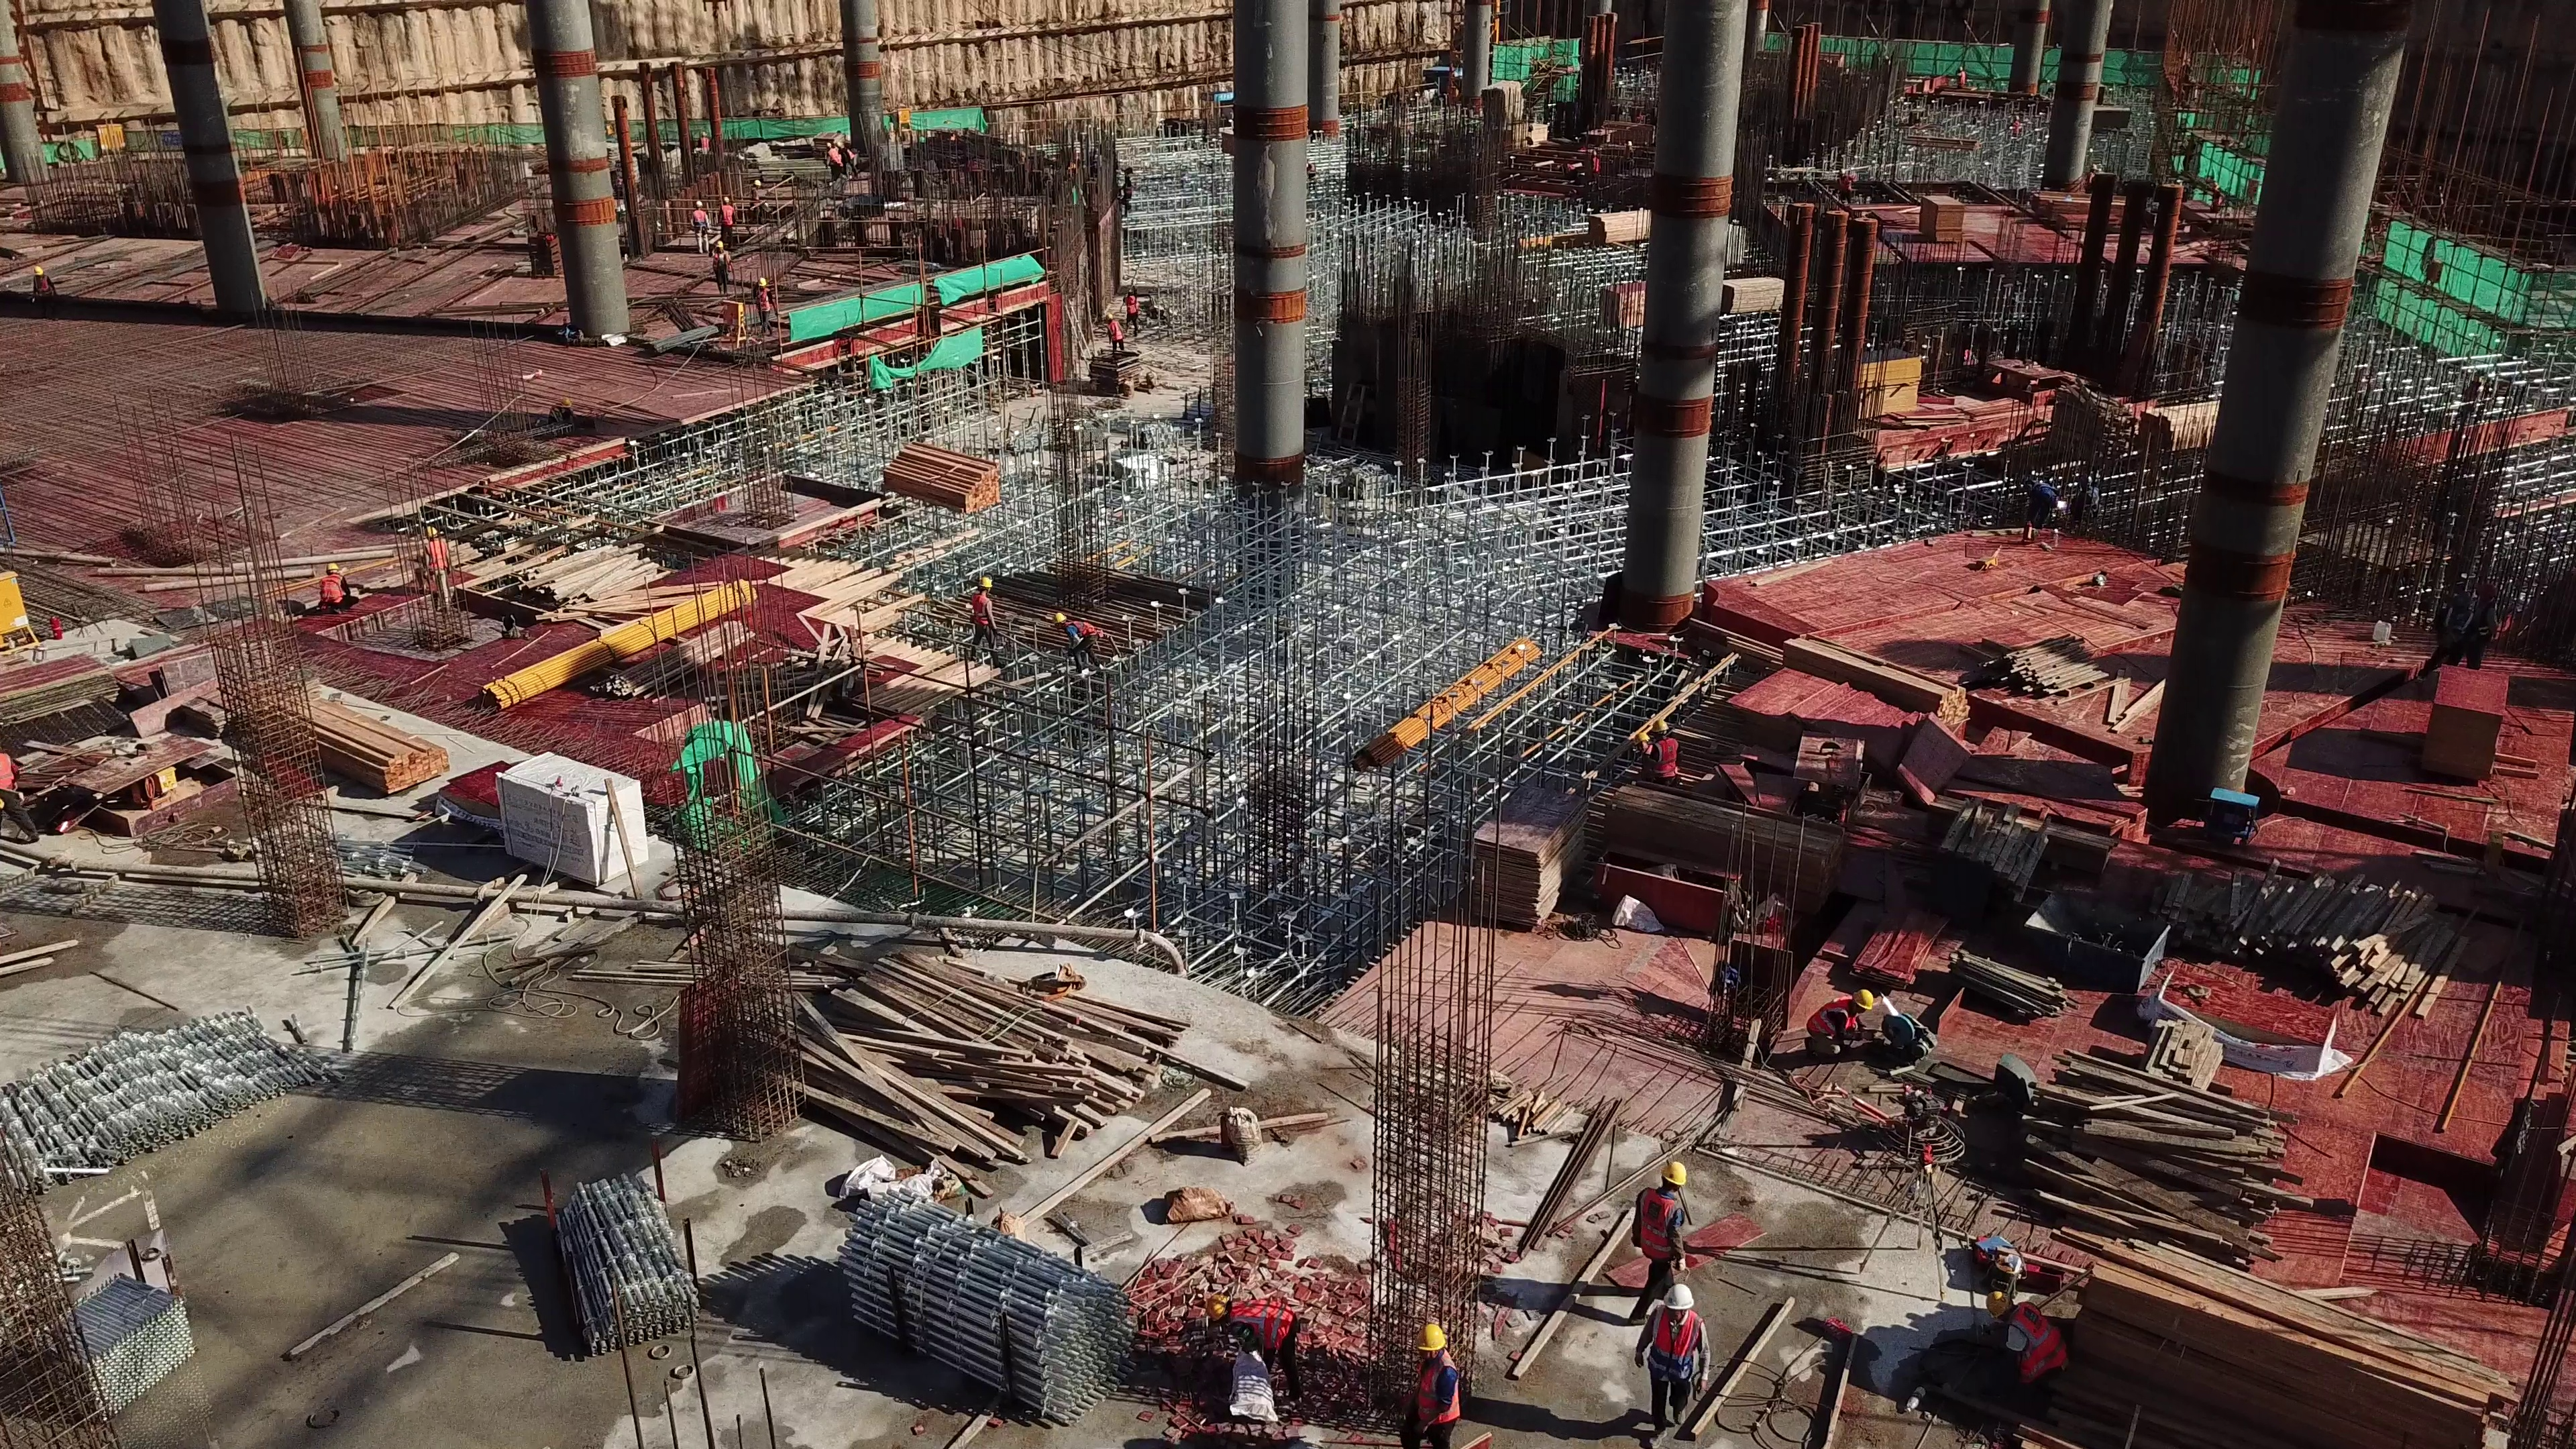board: (1743, 656, 1931, 759), (1470, 794, 1594, 926), (1855, 907, 1958, 1004), (2423, 669, 2504, 786), (1, 659, 126, 724)
cutter: (1872, 1008, 1938, 1063)
ebox: (2205, 782, 2262, 847), (1, 568, 48, 637)
helmet: (1409, 1322, 1451, 1351), (1982, 1288, 2019, 1320), (1663, 1285, 1696, 1316), (1205, 1293, 1232, 1322), (1658, 1156, 1685, 1186), (1850, 989, 1876, 1014), (975, 578, 994, 593), (1631, 731, 1650, 743), (420, 528, 440, 538), (1052, 610, 1067, 626), (323, 562, 343, 574), (1654, 722, 1668, 736)
person: (1637, 1288, 1710, 1433), (1980, 1290, 2071, 1405), (1209, 1287, 1301, 1397), (1631, 1162, 1682, 1319), (1404, 1330, 1465, 1449), (1801, 986, 1865, 1057), (417, 528, 452, 626), (1054, 610, 1104, 676), (969, 577, 1002, 667), (2470, 584, 2496, 674), (2434, 592, 2462, 676), (315, 562, 355, 619), (1654, 720, 1683, 784), (709, 240, 737, 297), (29, 266, 56, 318), (692, 199, 714, 256), (1633, 732, 1658, 780), (756, 280, 777, 334), (1120, 290, 1141, 337), (820, 142, 844, 181), (1103, 313, 1125, 354), (719, 197, 735, 246), (1833, 168, 1858, 204), (2205, 176, 2224, 215), (749, 180, 765, 223), (1955, 65, 1967, 89)
scaffold: (833, 1187, 1128, 1428), (9, 1003, 354, 1180), (547, 1177, 693, 1360), (38, 1254, 211, 1405)
vest: (2010, 1303, 2074, 1395), (1233, 1290, 1303, 1354), (1411, 1354, 1465, 1430), (1647, 1308, 1699, 1381), (1632, 1189, 1680, 1263), (1803, 995, 1858, 1043), (423, 540, 451, 578), (1654, 738, 1678, 776), (968, 595, 990, 629), (320, 575, 345, 604), (1069, 621, 1100, 642)
wood: (2090, 1255, 2518, 1449), (808, 945, 1162, 1149), (2041, 1049, 2300, 1245), (2229, 869, 2481, 992), (1986, 635, 2159, 735), (1935, 802, 2059, 905), (308, 706, 450, 794), (872, 437, 1010, 521), (1968, 943, 2084, 1028), (1489, 81, 1546, 143), (2145, 402, 2212, 447), (1727, 276, 1785, 312), (1594, 211, 1651, 244)
